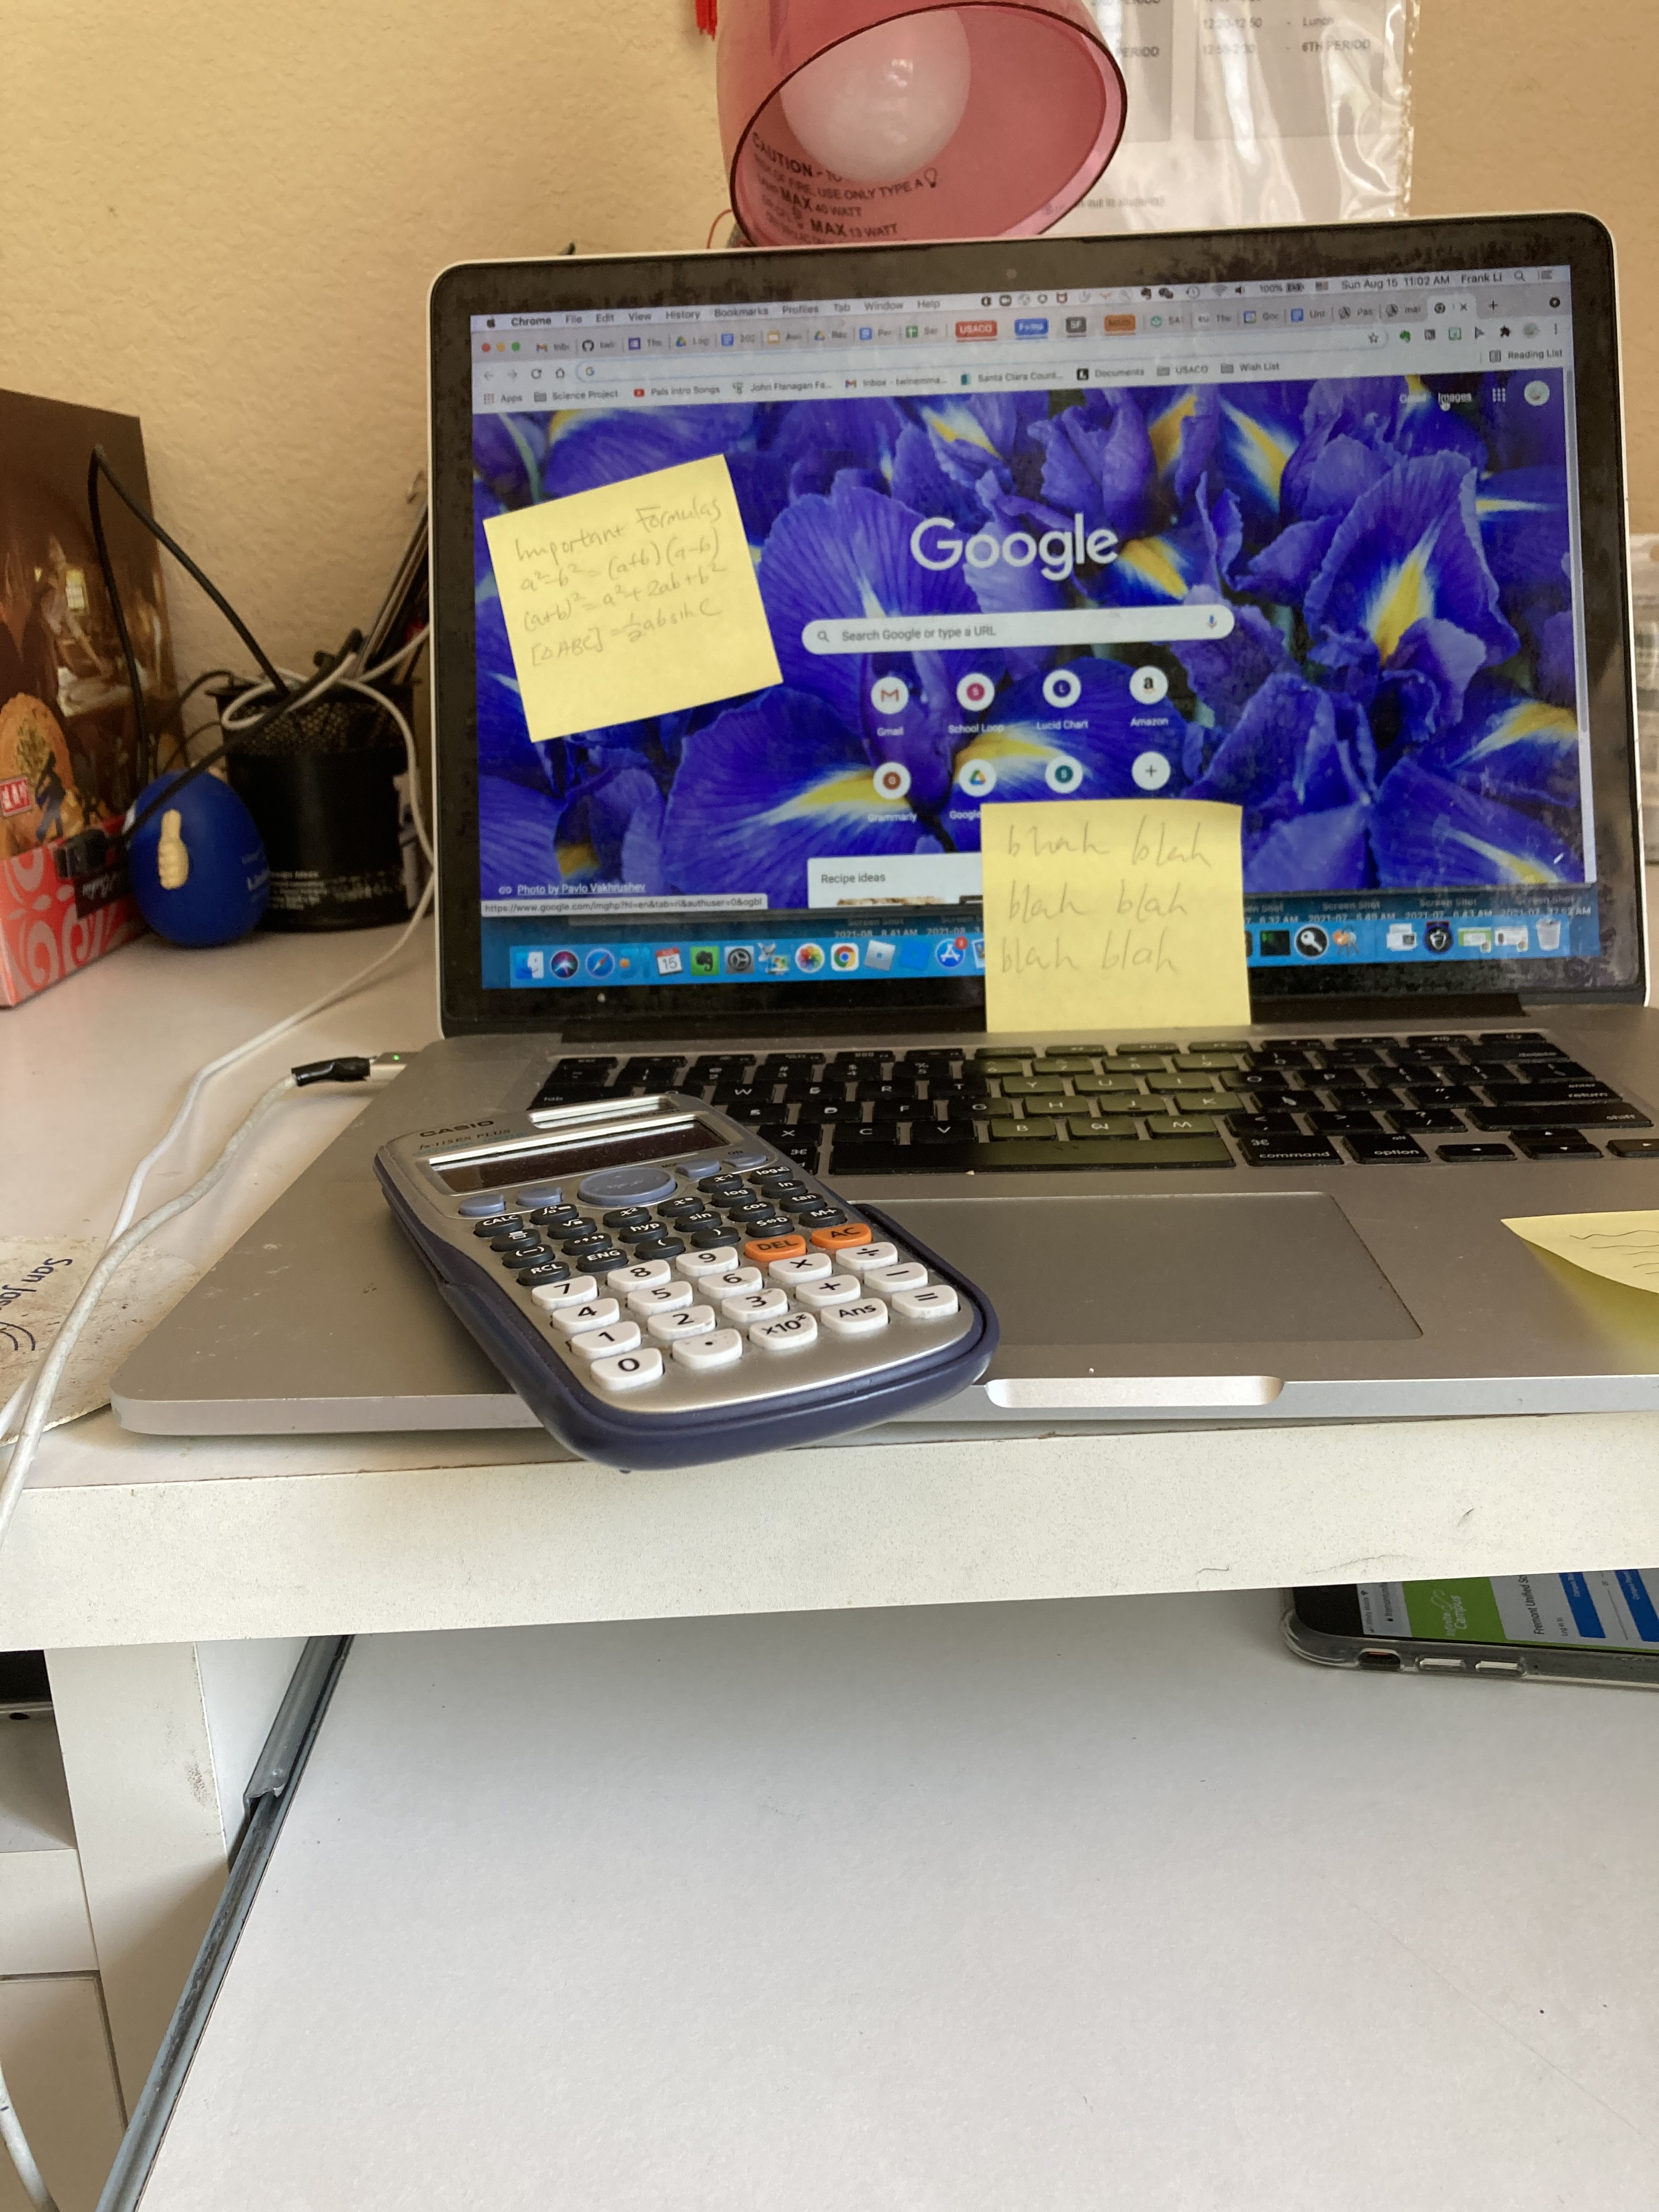Calculator: (392, 1099, 1000, 1460)
Note: (490, 462, 788, 735), (969, 786, 1267, 1036), (1509, 1205, 1659, 1303)
